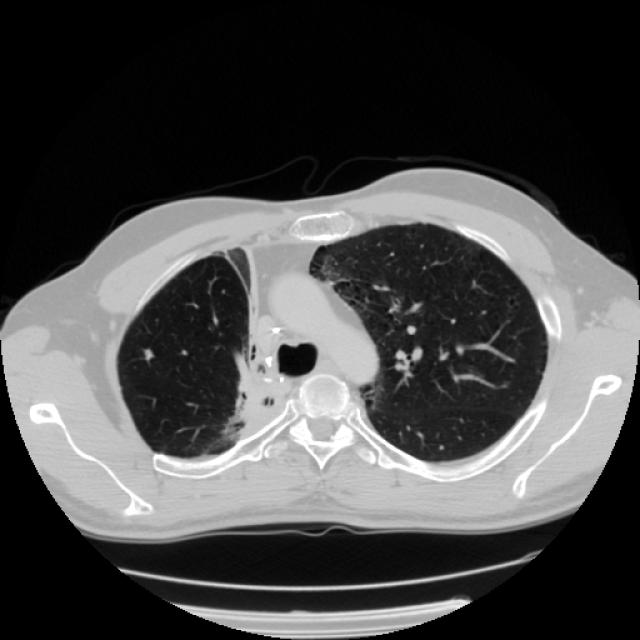nodule: (135, 342, 160, 366)
